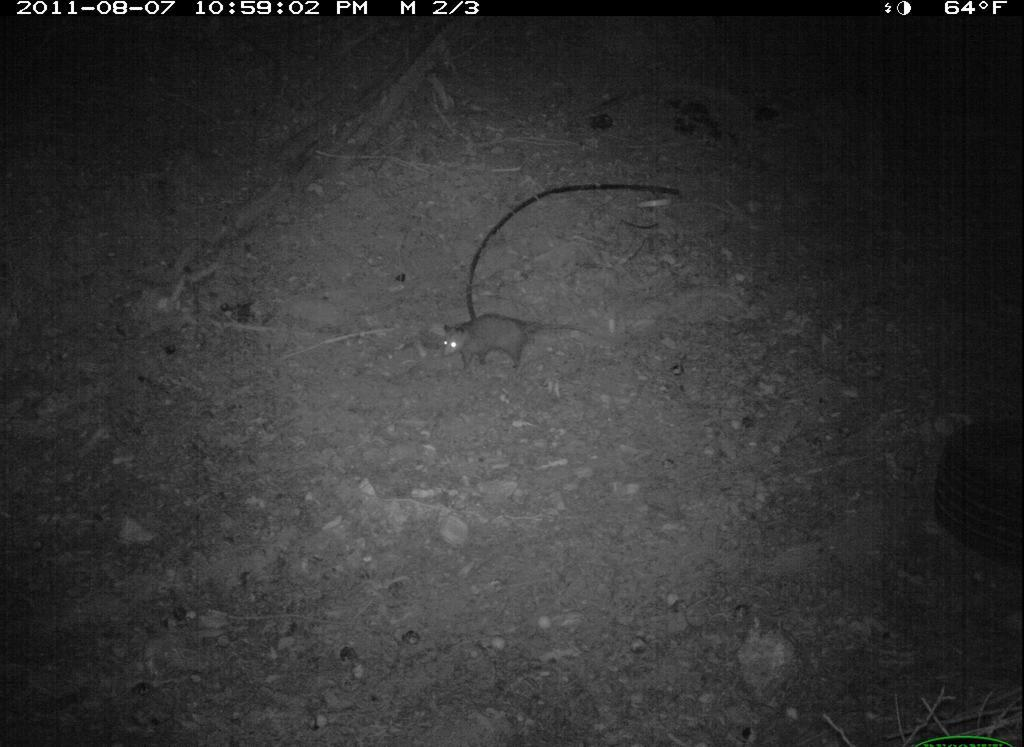opossum: (437, 309, 603, 385)
